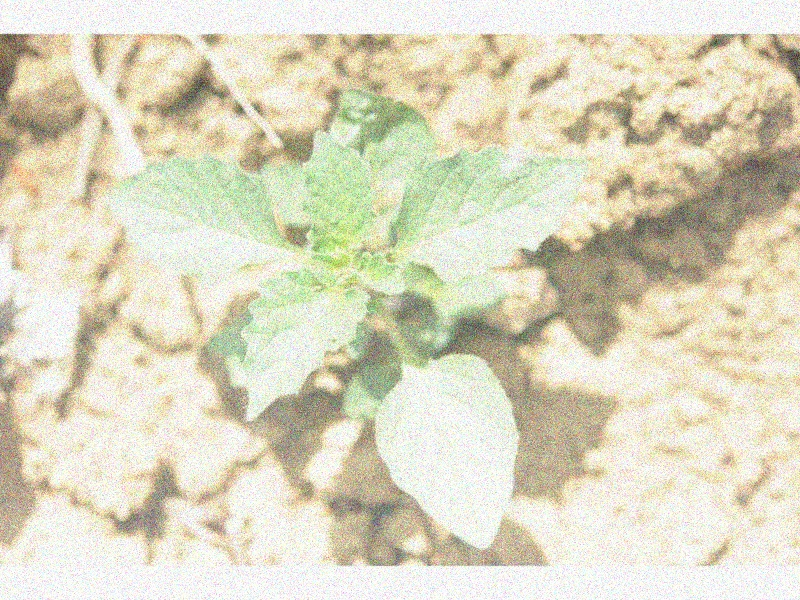nightshade: (104, 87, 591, 548)
